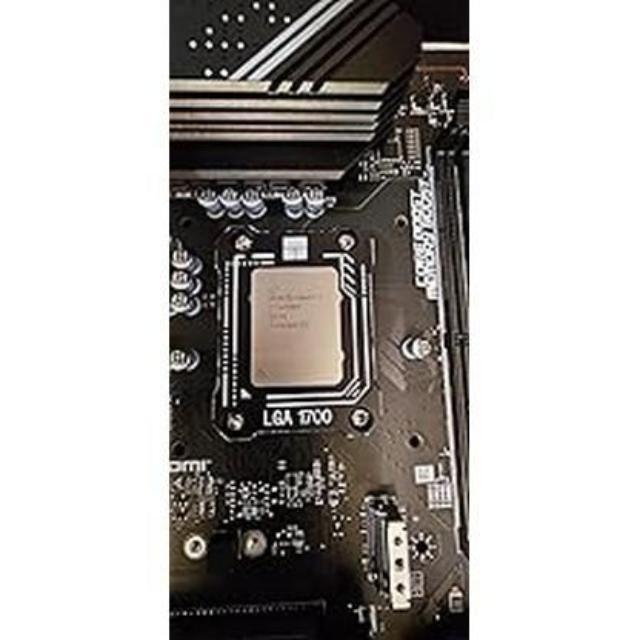CPU: (230, 258, 368, 404)
